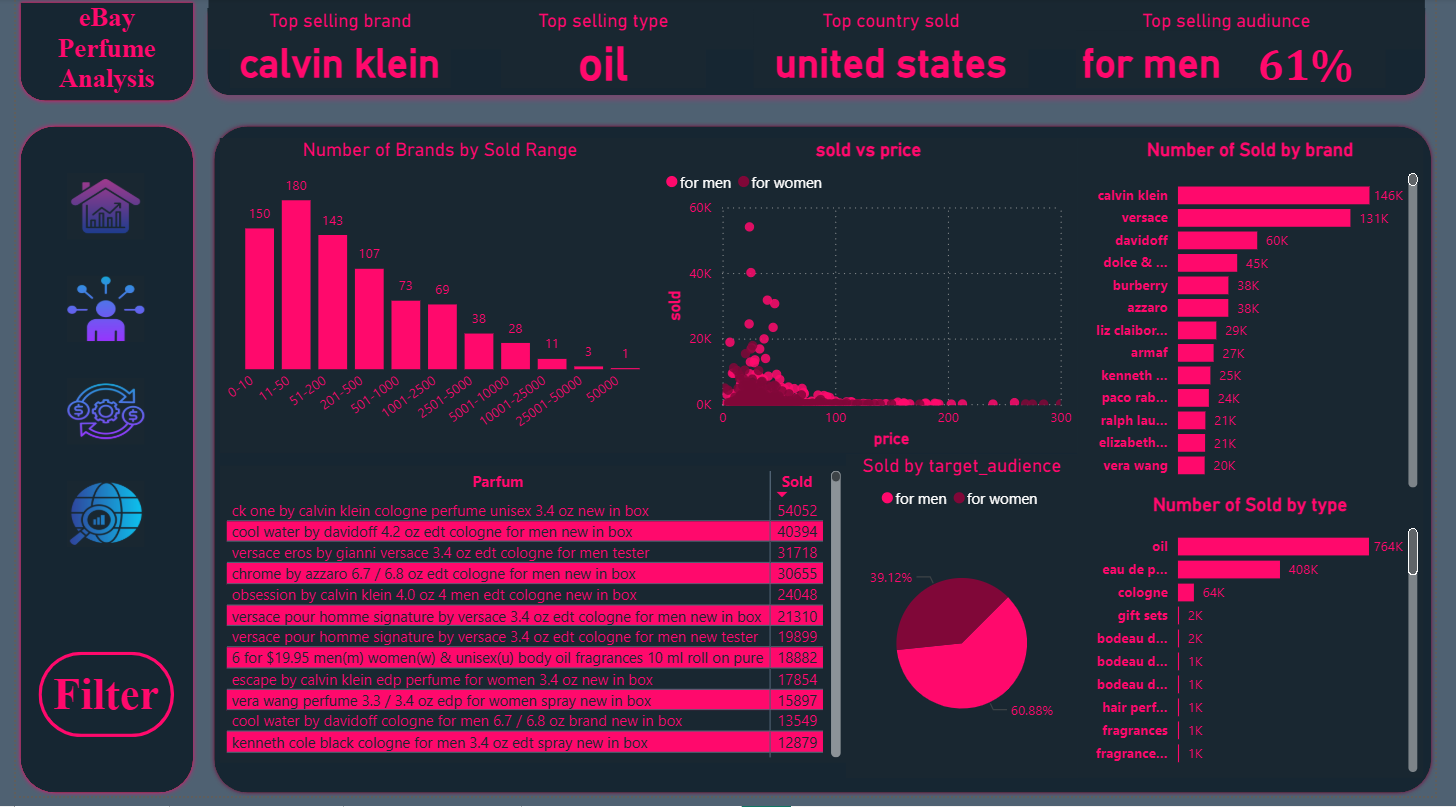

What the dashboard file says about the page in this screenshot:
{"tool":"powerbi","page":{"name":"Customer Insights","canvas":[1280,720],"ordinal":1},"visuals":[{"type":"card","title":"Top selling category","fields":{"Values":["perfum_cleaned.Top selling category"]},"box":[956.3,29.1,137,51.7],"z":0,"group":"g1"},{"type":"shape","box":[174.9,111.3,1105.4,609],"z":0},{"type":"actionButton","box":[46.5,157.7,69.7,59.9],"z":0,"group":"g2"},{"type":"shape","box":[163.9,0,1116.4,96.6],"z":1000},{"type":"card","fields":{"Values":["perfum_cleaned.Top category percentag"]},"box":[1092,34.1,144.3,46.6],"z":1000,"group":"g1"},{"type":"actionButton","box":[46.5,250.2,69.7,59.9],"z":1000,"group":"g2"},{"type":"shape","title":"Top selling audiunce","box":[986.9,9.8,210.3,31.4],"z":2000,"group":"g1"},{"type":"clusteredBarChart","title":"Number of Sold by brand","fields":{"Category":["perfum_cleaned.brand"],"Y":["Sum(perfum_cleaned.sold)"]},"box":[957.5,126,311.8,320.4],"z":2000},{"type":"actionButton","box":[46.5,435.3,69.7,59.9],"z":2000,"group":"g2"},{"type":"actionButton","box":[46.5,342.8,69.7,59.9],"z":3000,"group":"g2"},{"type":"tableEx","fields":{"Values":["perfum_cleaned.title","Sum(perfum_cleaned.sold)"]},"box":[183.4,421.9,564.9,267.8],"z":3000},{"type":"clusteredBarChart","title":"Number of Sold by type","fields":{"Category":["perfum_cleaned.type"],"Y":["Sum(perfum_cleaned.sold)"]},"box":[957.5,446.3,311.8,256.8],"z":4000},{"type":"scatterChart","title":"sold vs price","fields":{"X":["perfum_cleaned.price"],"Y":["Sum(perfum_cleaned.sold)"],"Series":["perfum_cleaned.target_audience"]},"box":[580.8,126,376.6,283.7],"z":5000},{"type":"clusteredColumnChart","title":"Number of Brands by Sold Range","fields":{"Category":["perfum_cleaned.Sold Range"],"Y":["Count(perfum_cleaned.brand)"]},"box":[183.4,126,397.4,283.7],"z":6000},{"type":"pieChart","title":"Sold by target_audience","fields":{"Y":["Sum(perfum_cleaned.sold)"],"Category":["perfum_cleaned.target_audience"]},"box":[748.4,410.9,209.1,292.3],"z":7000},{"type":"shape","box":[173.6,0,1096.9,46.5],"z":8000},{"type":"shape","box":[0,111.3,163.9,609],"z":9000},{"type":"card","title":"Top selling brand","fields":{"Values":["perfum_cleaned.Top selling brand"]},"box":[193.2,9.8,199.3,70.9],"z":10000},{"type":"card","title":"Top selling type","fields":{"Values":["perfum_cleaned.Top selling type"]},"box":[437.8,9.8,184.6,70.9],"z":11000},{"type":"card","title":"Top country sold","fields":{"Values":["perfum_cleaned.Top country sold"]},"box":[665.2,9.8,248.2,70.9],"z":12000},{"type":"group","id":"g1","title":"Group 1","box":[956.3,9.8,280,70.9],"z":13000},{"type":"group","id":"g2","title":"icon","box":[46.5,157.7,69.7,337.5],"z":14000},{"type":"shape","title":"eBay Perfume Market Analysis","box":[0,0,163.9,96.6],"z":15000},{"type":"actionButton","title":"filter","box":[20.8,589.4,122.3,77],"z":16000}]}

Visuals, with their boxes in screenshot pixels (x1, y1, x2, y2), scaled from the page's 1280x720 canvas onto the 1456x807 screenshot:
"Top selling category" card: <region>1088, 33, 1244, 91</region>
shape: <region>199, 125, 1455, 806</region>
actionButton: <region>53, 177, 132, 244</region>
shape: <region>186, 0, 1455, 108</region>
card - perfum_cleaned.Top category percentag: <region>1242, 38, 1406, 90</region>
actionButton: <region>53, 280, 132, 348</region>
"Top selling audiunce" shape: <region>1123, 11, 1362, 46</region>
"Number of Sold by brand" clusteredBarChart: <region>1089, 141, 1444, 500</region>
actionButton: <region>53, 488, 132, 555</region>
actionButton: <region>53, 384, 132, 451</region>
tableEx - perfum_cleaned.title x Sum(perfum_cleaned.sold): <region>209, 473, 851, 773</region>
"Number of Sold by type" clusteredBarChart: <region>1089, 500, 1444, 788</region>
"sold vs price" scatterChart: <region>661, 141, 1089, 459</region>
"Number of Brands by Sold Range" clusteredColumnChart: <region>209, 141, 661, 459</region>
"Sold by target_audience" pieChart: <region>851, 461, 1089, 788</region>
shape: <region>197, 0, 1445, 52</region>
shape: <region>0, 125, 186, 806</region>
"Top selling brand" card: <region>220, 11, 446, 90</region>
"Top selling type" card: <region>498, 11, 708, 90</region>
"Top country sold" card: <region>757, 11, 1039, 90</region>
"Group 1" group: <region>1088, 11, 1406, 90</region>
"icon" group: <region>53, 177, 132, 555</region>
"eBay Perfume Market Analysis" shape: <region>0, 0, 186, 108</region>
"filter" actionButton: <region>24, 661, 163, 747</region>
